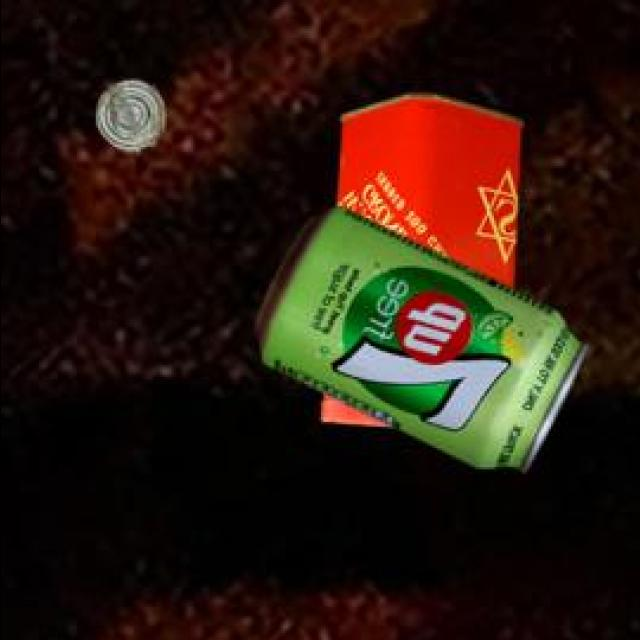logam: (257, 210, 591, 474), (330, 96, 527, 326), (98, 84, 169, 158)
